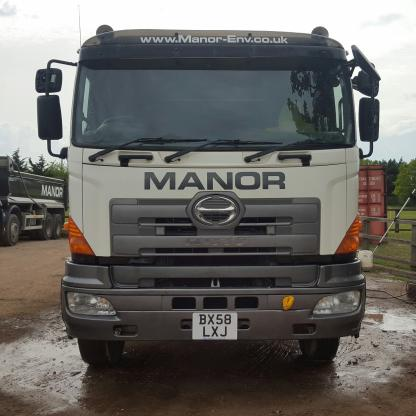dump_truck: (39, 18, 382, 387)
